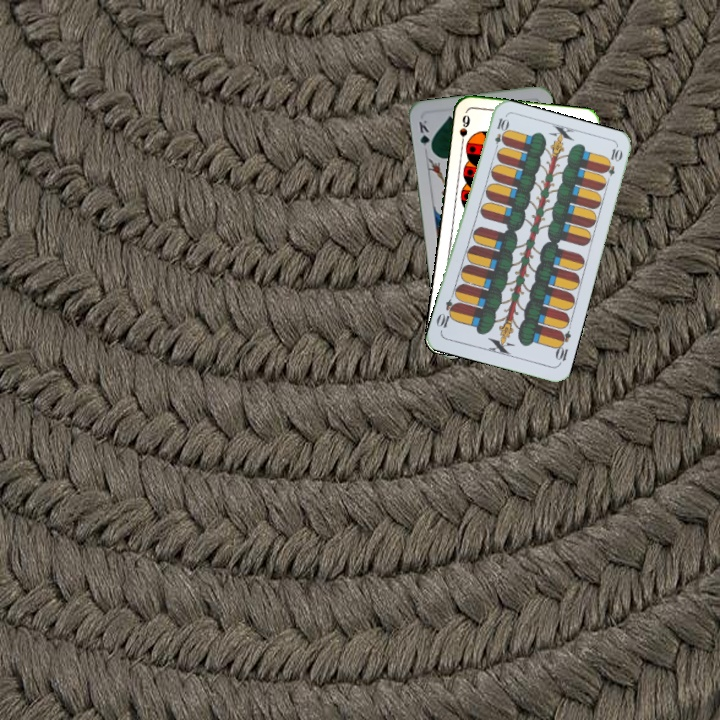E10: (551, 327, 573, 367), (490, 114, 509, 154)
GK: (415, 116, 435, 155)
S9: (455, 111, 473, 150)
